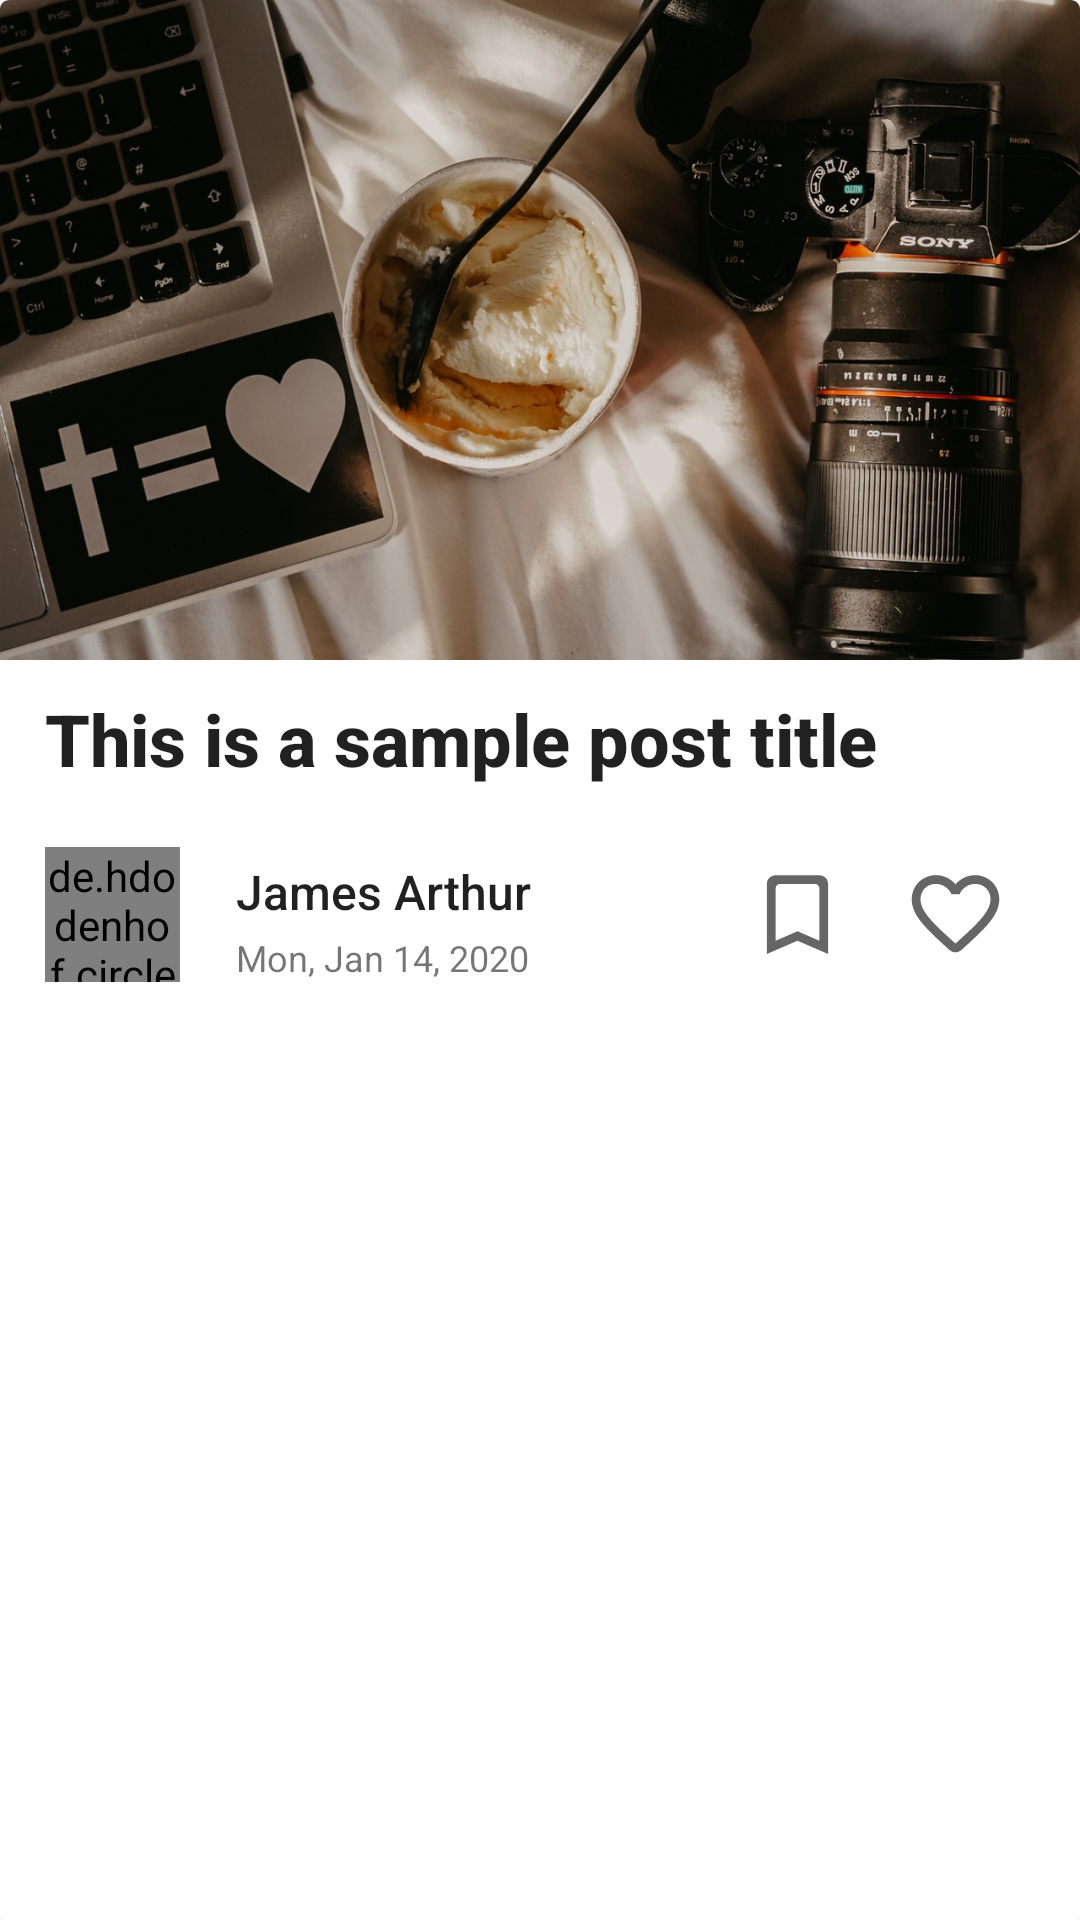

Icons on this 1080x1920 Android screen, each with the point to tap as point (x, y):
Bookmark: point (797, 914)
Like: point (955, 914)
